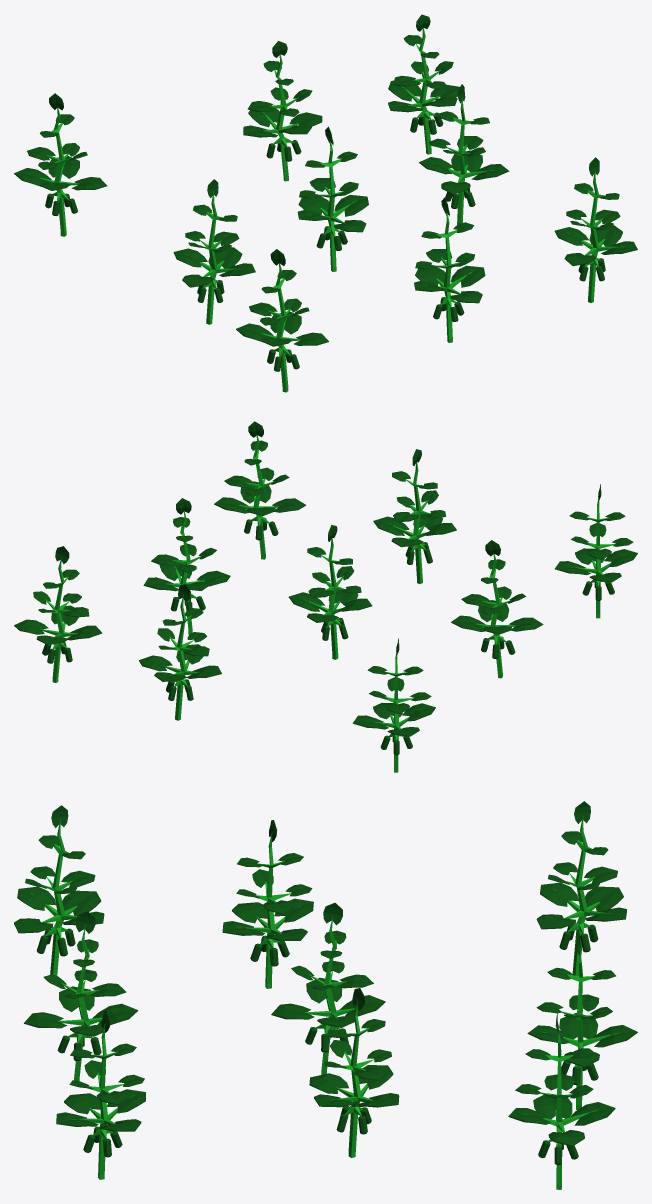
File: Cabbage3.fbx
The picture shows the model from 3 angles, top to bottom: view 1: azimuth 30°, elevation 25°; view 2: azimuth 150°, elevation 25°; view 3: azimuth 270°, elevation 25°; orthographic projection. The views are drawn at different scales.
Parts seen in each view (by area): view 1: Leaves; view 2: Leaves; view 3: Leaves.
Boxes of the visible parts, x1,y1,x2,y2 form: Leaves: (14, 14, 637, 392); Leaves: (14, 421, 637, 772); Leaves: (14, 801, 637, 1189).
Size of the model in its own units: 90.53 by 29.43 by 93.93.
